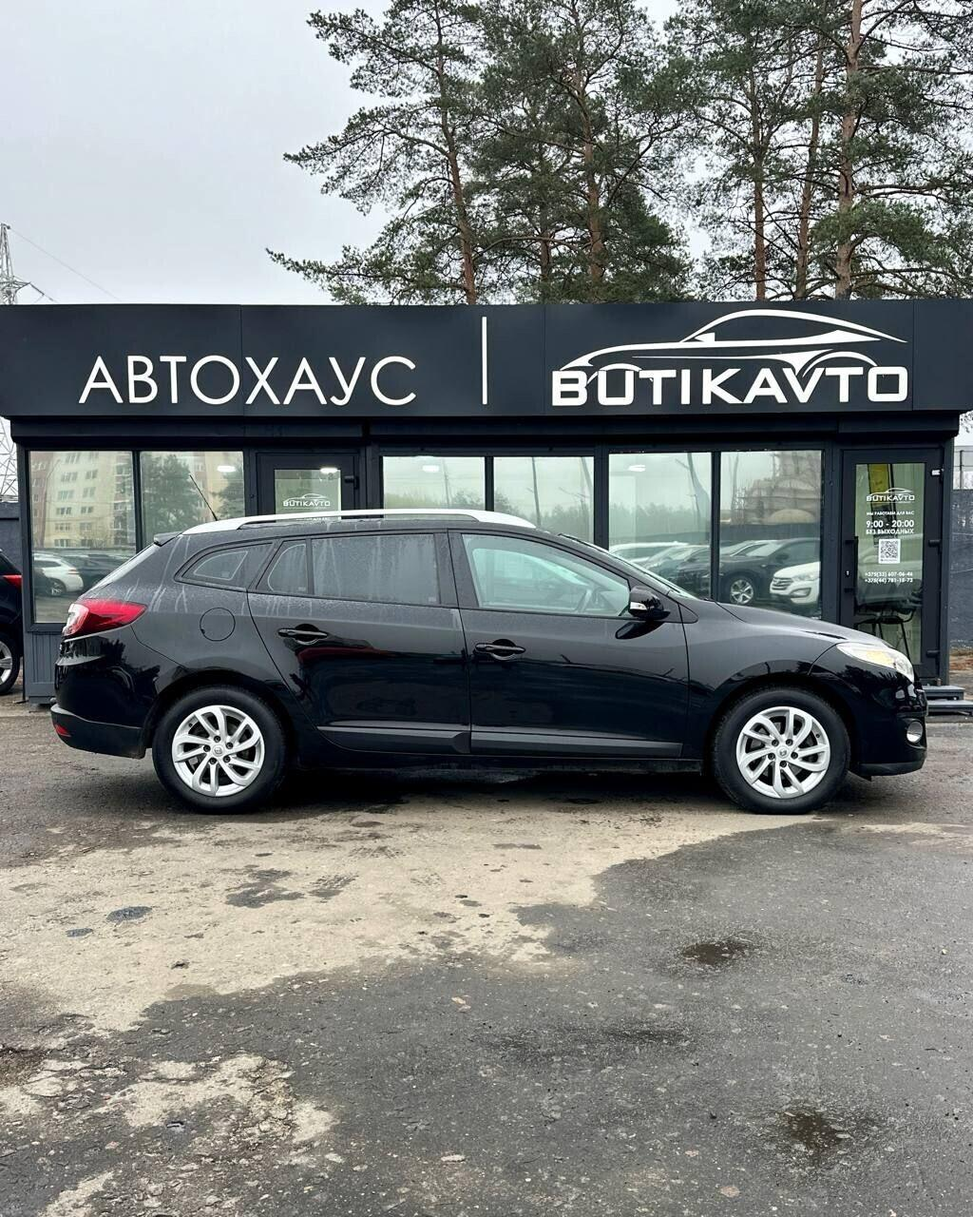Megane_2012-2014: (44, 507, 936, 837)
